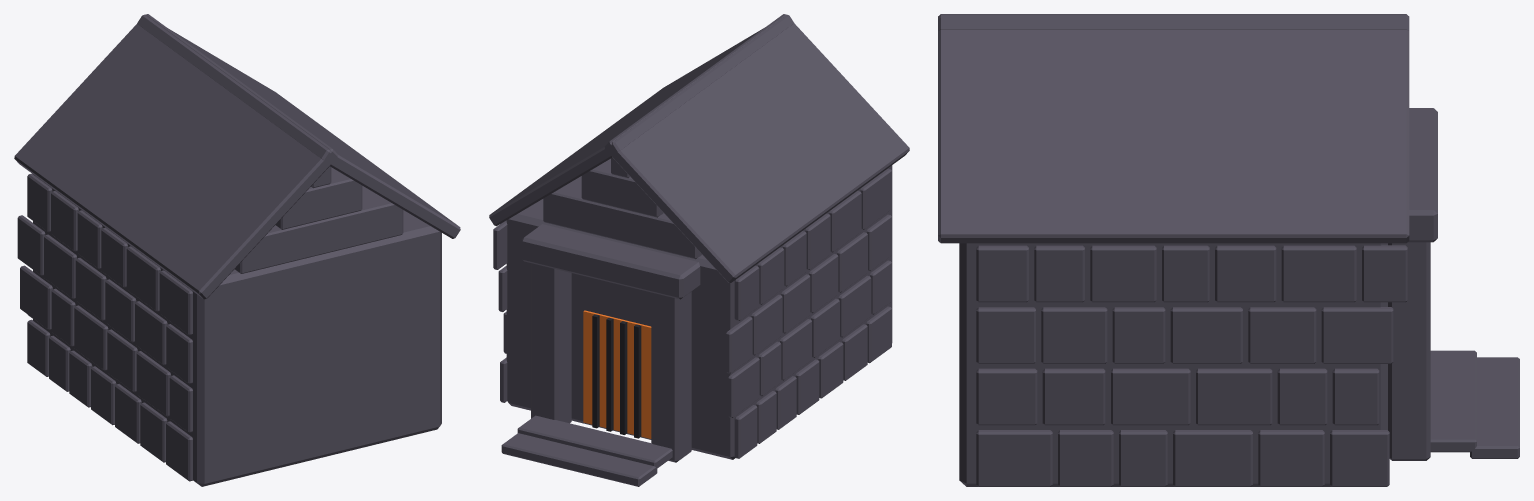
Rendered from Crypt.fbx.
The picture shows the model from 3 angles, left to right: view 1: azimuth 30°, elevation 25°; view 2: azimuth 150°, elevation 25°; view 3: azimuth 270°, elevation 25°; orthographic projection. The views are drawn at different scales.
Visible parts, largest first — view 1: Stone, Roof; view 2: Stone, Roof, Front, Glow, Iron; view 3: Roof, Stone, Front.
Boxes of the visible parts, x1=… form: Stone: x1=17, y1=166, x2=441, y2=486; Roof: x1=14, y1=14, x2=460, y2=299; Stone: x1=493, y1=157, x2=892, y2=459; Roof: x1=489, y1=14, x2=909, y2=282; Front: x1=501, y1=224, x2=700, y2=486; Glow: x1=583, y1=310, x2=651, y2=438; Iron: x1=592, y1=314, x2=641, y2=438; Roof: x1=938, y1=14, x2=1409, y2=243; Stone: x1=959, y1=243, x2=1407, y2=486; Front: x1=1388, y1=108, x2=1519, y2=460.
Size of the model in its own units: 10.68 by 12.33 by 16.3.
